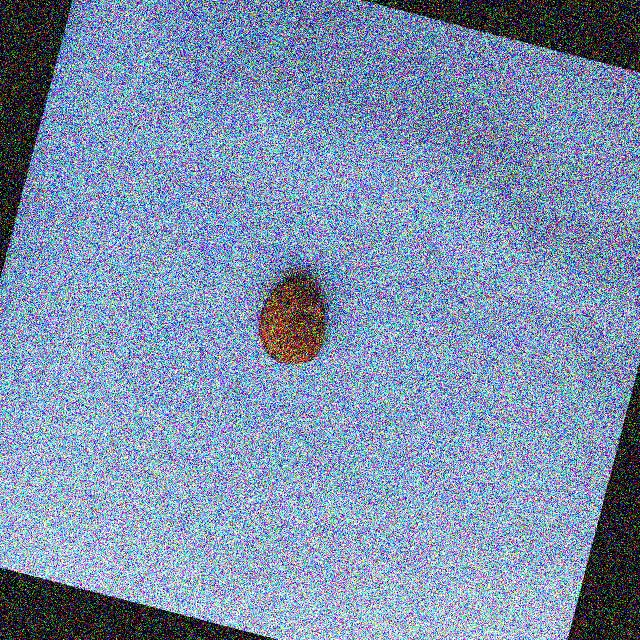grade3: (247, 263, 344, 377)
